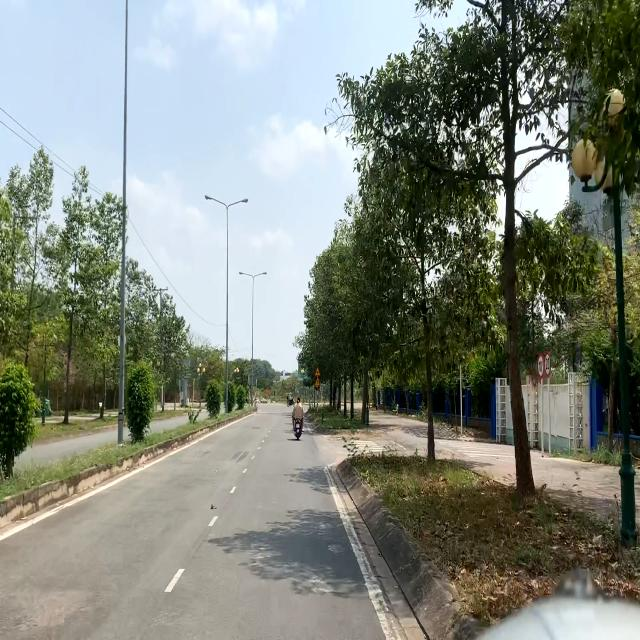W.205d: (314, 366, 321, 376)
W.224: (315, 377, 320, 386)
